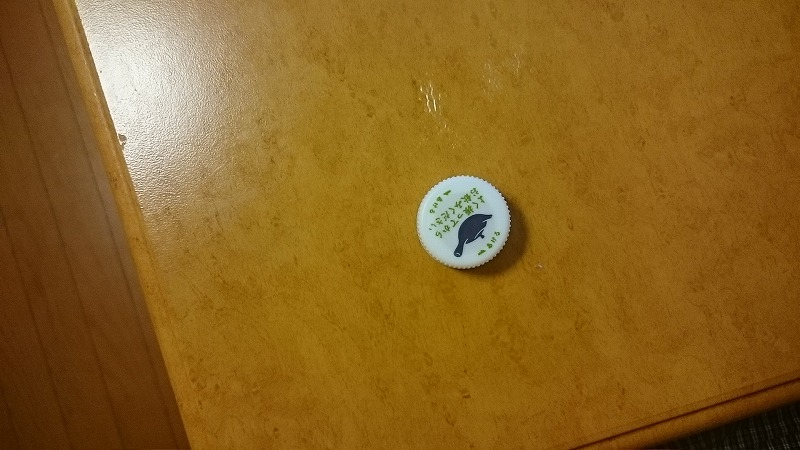A: (409, 167, 518, 271)
